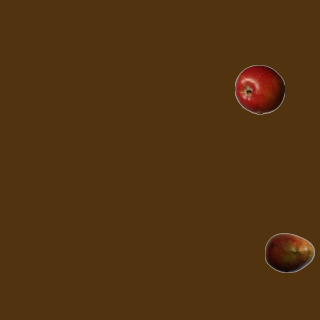Apple Braeburn: (234, 64, 284, 114)
Mango Red: (264, 227, 314, 277)
